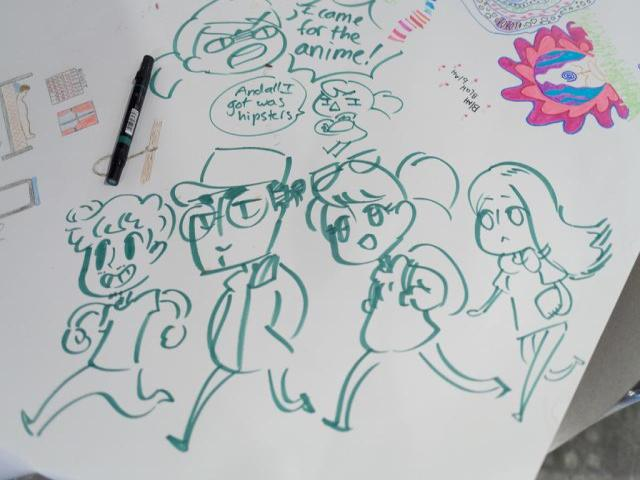PEN: (90, 51, 160, 191)
